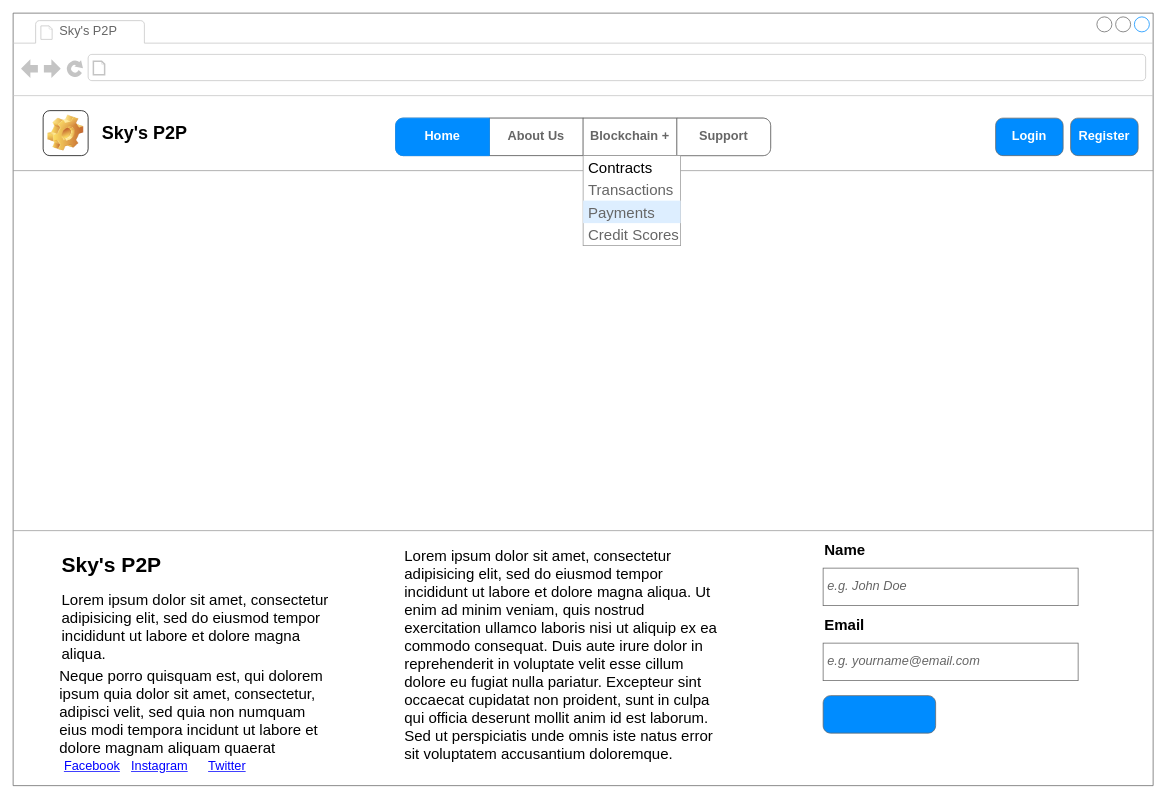
Image size: 1166x799. Some labels were removed from this diagram. The centre of each missing label's shape, as x and y in pixels:
"http://localhost:3000/" goes at (204,67).
"Submit" goes at (879,714).
